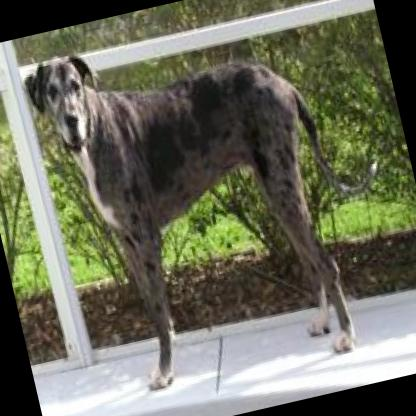Great_Dane: (19, 0, 415, 410)
